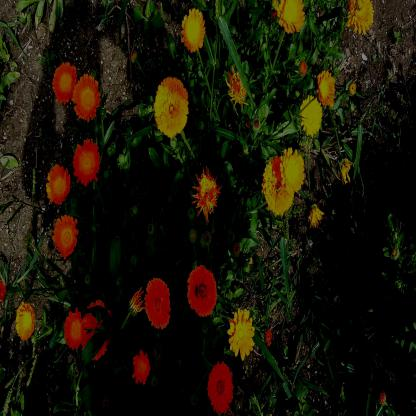marigold: (153, 75, 190, 138), (80, 299, 112, 360), (263, 156, 294, 216), (191, 165, 222, 219), (187, 264, 217, 317), (72, 72, 102, 122), (227, 306, 254, 360), (144, 278, 170, 332), (207, 360, 234, 412), (72, 138, 100, 186), (52, 214, 78, 259), (181, 6, 206, 52), (280, 146, 304, 193), (52, 61, 76, 105), (298, 94, 322, 138), (46, 164, 71, 206), (276, 0, 304, 34), (63, 306, 83, 352), (346, 0, 373, 32), (15, 302, 36, 341), (131, 349, 150, 386), (316, 71, 335, 107)
